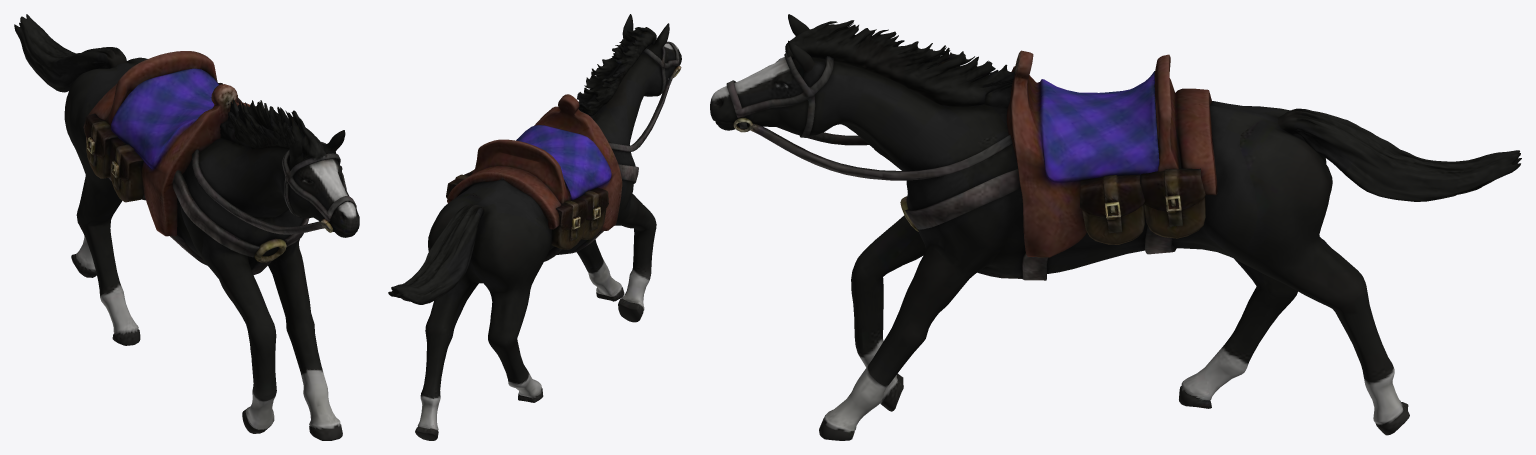
Rendered from MZ4250 - Warhorse Running_Black Stallion.glb.
3 renders of one model, left to right at view 1: azimuth 30°, elevation 25°; view 2: azimuth 150°, elevation 25°; view 3: azimuth 270°, elevation 25°, orthographic. The views are drawn at different scales.
Visible parts, largest first — view 1: Warhorse running.001; view 2: Warhorse running.001; view 3: Warhorse running.001.
Boxes of the visible parts, x1,y1,x2,y2 form: Warhorse running.001: (14,14,359,440); Warhorse running.001: (388,14,681,440); Warhorse running.001: (710,14,1521,440).
Bounding box in the file's own units: 18.25 × 38.98 × 71.12.
Materials: 1 (1 with a texture image).
